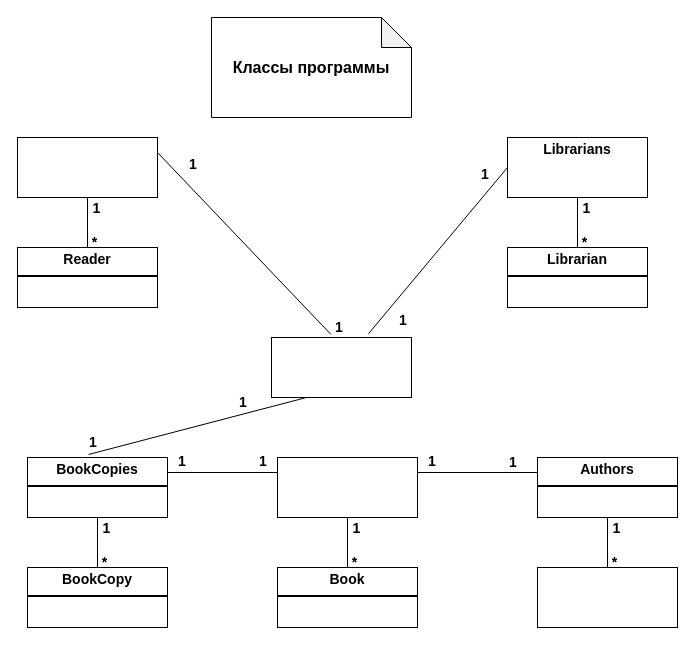
Some shapes in this 695 by 645 pixel diagram are drawn without their labels. The centre of each missing label's shape, as x and y in pixels:
Author: the point at 607,597
Books: the point at 347,487
Library: the point at 341,367
Readers: the point at 87,167
